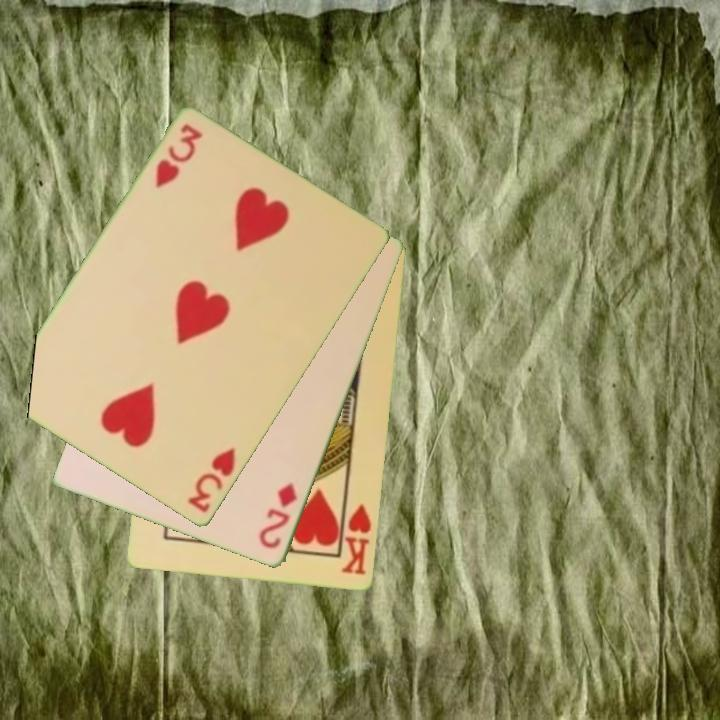2d: (255, 480, 300, 552)
3h: (184, 444, 239, 517), (152, 121, 206, 192)
Kh: (337, 495, 375, 579)
